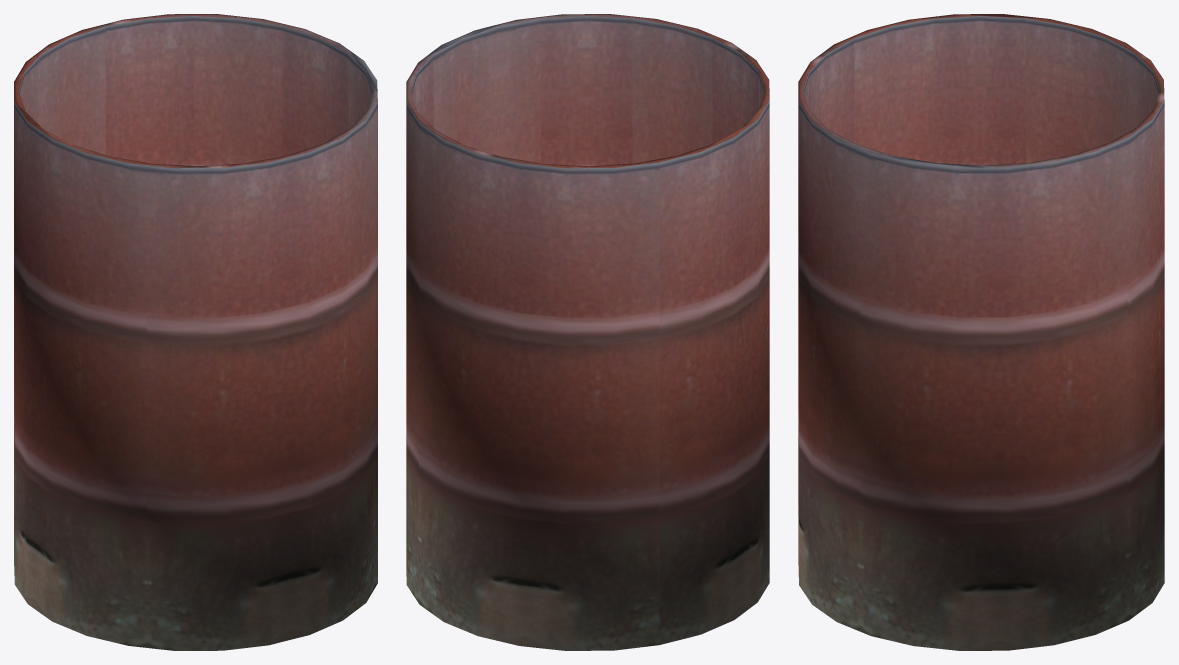
Rendered from BrownBarrel.gltf.
3 views of the same model, side by side, from view 1: azimuth 30°, elevation 25°; view 2: azimuth 150°, elevation 25°; view 3: azimuth 270°, elevation 25° (orthographic).
Visible parts, largest first — view 1: node1; view 2: node1; view 3: node1.
Part boxes in pixels (<box>): node1: <box>14,14,377,650</box>; node1: <box>406,14,769,650</box>; node1: <box>798,14,1164,650</box>.
Bounding box in the file's own units: 0.5256 × 0.7711 × 0.5292.
